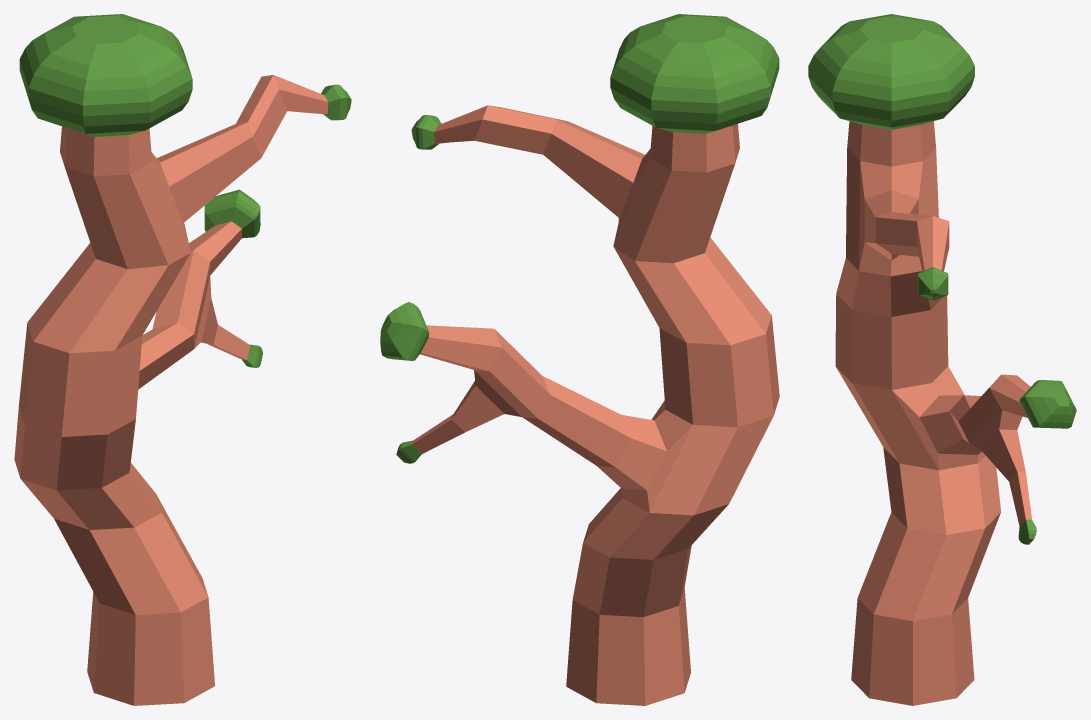
File: tree_02.fbx
3 renders of one model, left to right at view 1: azimuth 30°, elevation 25°; view 2: azimuth 150°, elevation 25°; view 3: azimuth 270°, elevation 25°, orthographic. The views are drawn at different scales.
Parts seen in each view (by area): view 1: Cylindre.001; view 2: Cylindre.001; view 3: Cylindre.001.
Boxes of the visible parts, x1,y1,x2,y2 form: Cylindre.001: (14,14,351,705); Cylindre.001: (380,14,779,705); Cylindre.001: (808,14,1076,705).
Size of the model in its own units: 270 by 498 by 194.
